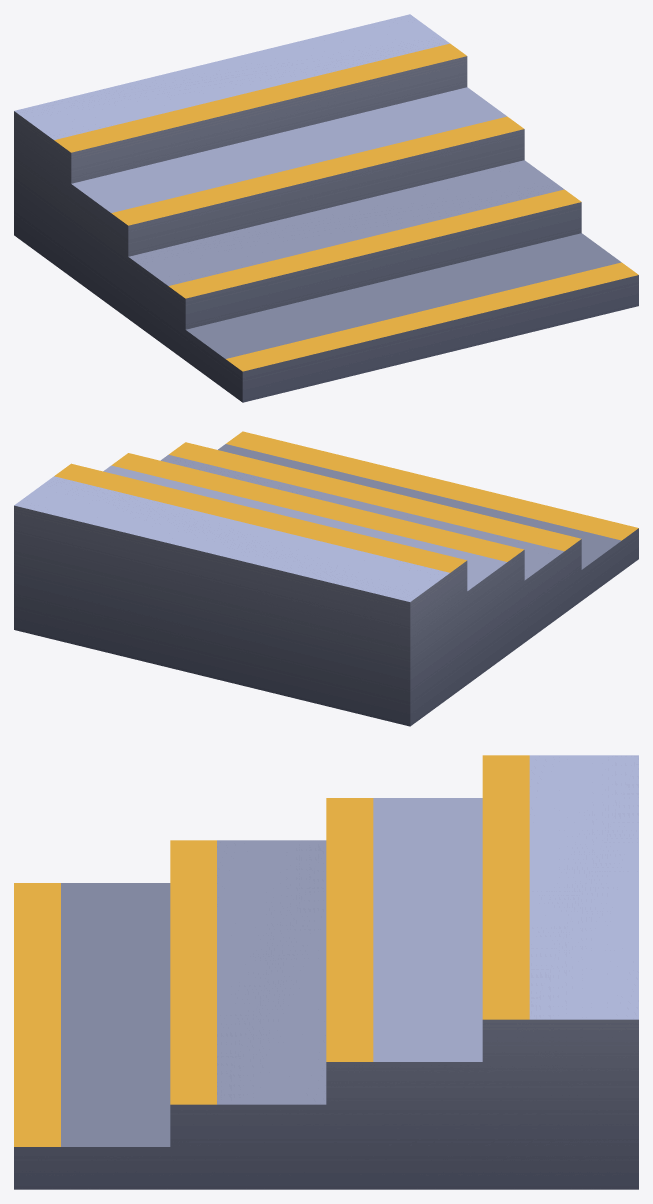
File: stairs.glb
3 views of the same model, one above another, from view 1: azimuth 30°, elevation 25°; view 2: azimuth 150°, elevation 25°; view 3: azimuth 270°, elevation 25° (orthographic). The views are drawn at different scales.
Visible parts, largest first — view 1: stairs; view 2: stairs; view 3: stairs.
Boxes of the visible parts, bbox=[...] form: stairs: bbox=[14, 14, 638, 402]; stairs: bbox=[14, 431, 638, 726]; stairs: bbox=[14, 755, 638, 1189].
Size of the model in its own units: 1 by 0.3 by 1.
1 material, 1 textured.
